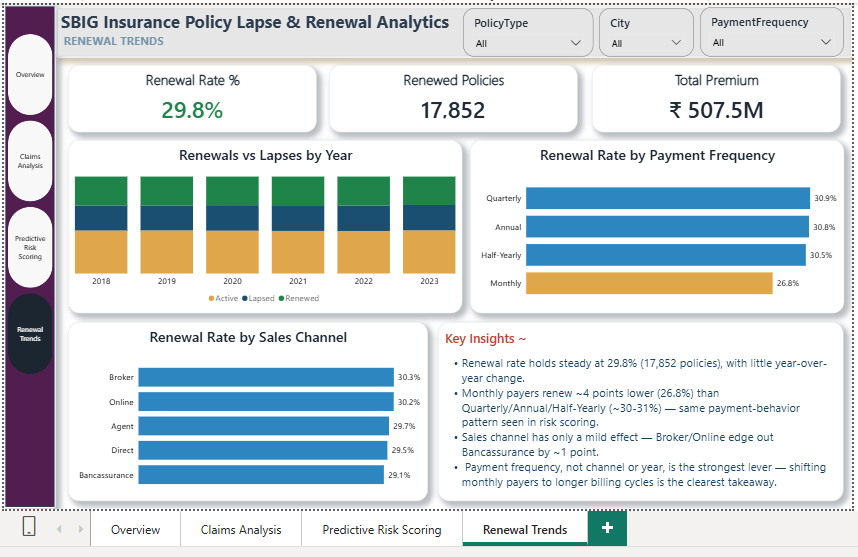

What the dashboard file says about the page in this screenshot:
{"tool":"powerbi","page":{"name":"Renewal Trends","canvas":[1600,950],"ordinal":3},"visuals":[{"type":"shape","box":[0,0,98.1,950],"z":0},{"type":"shape","box":[98.1,3.8,1501.9,96.2],"z":1000},{"type":"textbox","box":[101.9,3.8,755.8,100],"z":1001},{"type":"slicer","fields":{"Values":["LapseRiskSummary.PolicyType"]},"box":[865.4,5.8,246,92.3],"z":1002},{"type":"slicer","fields":{"Values":["LapseRiskSummary.City"]},"box":[1123.1,5.8,178.8,92.3],"z":1003},{"type":"slicer","fields":{"Values":["LapseRiskSummary.PaymentFrequency"]},"box":[1313.5,3.8,271.2,94.2],"z":1004},{"type":"cardVisual","title":"Renewal Rate %","fields":{"Data":["all_measures.Renewal Rate %"]},"box":[121.2,113.5,469.2,126.9],"z":1005},{"type":"cardVisual","title":"Renewed Policies","fields":{"Data":["all_measures.Renewed Policies"]},"box":[613.5,113.5,469.2,126.9],"z":1006},{"type":"cardVisual","title":"Total Premium","fields":{"Data":["all_measures.Total Premium"]},"box":[1109.6,113.5,469.2,126.9],"z":1007},{"type":"hundredPercentStackedColumnChart","title":"Renewals vs Lapses by Year","fields":{"Category":["DateTable.Year"],"Series":["LapseRiskSummary.PolicyStatus"],"Y":["all_measures.Total Policies"]},"box":[121.2,253.8,744.2,326.9],"z":1008},{"type":"clusteredBarChart","title":"Renewal Rate by Payment Frequency","fields":{"Category":["LapseRiskSummary.PaymentFrequency"],"Y":["all_measures.Renewal Rate %"]},"box":[878.8,253.8,705.8,326.9],"z":1009},{"type":"clusteredBarChart","title":"Renewal Rate by Sales Channel","fields":{"Category":["LapseRiskSummary.SalesChannel"],"Y":["all_measures.Renewal Rate %"]},"box":[121.2,598.1,678.8,338.5],"z":1010},{"type":"textbox","box":[819.2,598.1,765.4,338.5],"z":1011}]}

Visuals, with their boxes on the page's 1600x950 design canvas (x1, y1, x2, y2). These are canvas units, not pixel positions in the 858x557 screenshot, which may show the page scaled, cropped or inside an application window:
shape: <box>0,0,98,950</box>
shape: <box>98,4,1600,100</box>
textbox: <box>102,4,858,104</box>
slicer - LapseRiskSummary.PolicyType: <box>865,6,1111,98</box>
slicer - LapseRiskSummary.City: <box>1123,6,1302,98</box>
slicer - LapseRiskSummary.PaymentFrequency: <box>1314,4,1585,98</box>
"Renewal Rate %" cardVisual: <box>121,114,590,240</box>
"Renewed Policies" cardVisual: <box>614,114,1083,240</box>
"Total Premium" cardVisual: <box>1110,114,1579,240</box>
"Renewals vs Lapses by Year" hundredPercentStackedColumnChart: <box>121,254,865,581</box>
"Renewal Rate by Payment Frequency" clusteredBarChart: <box>879,254,1585,581</box>
"Renewal Rate by Sales Channel" clusteredBarChart: <box>121,598,800,937</box>
textbox: <box>819,598,1585,937</box>
